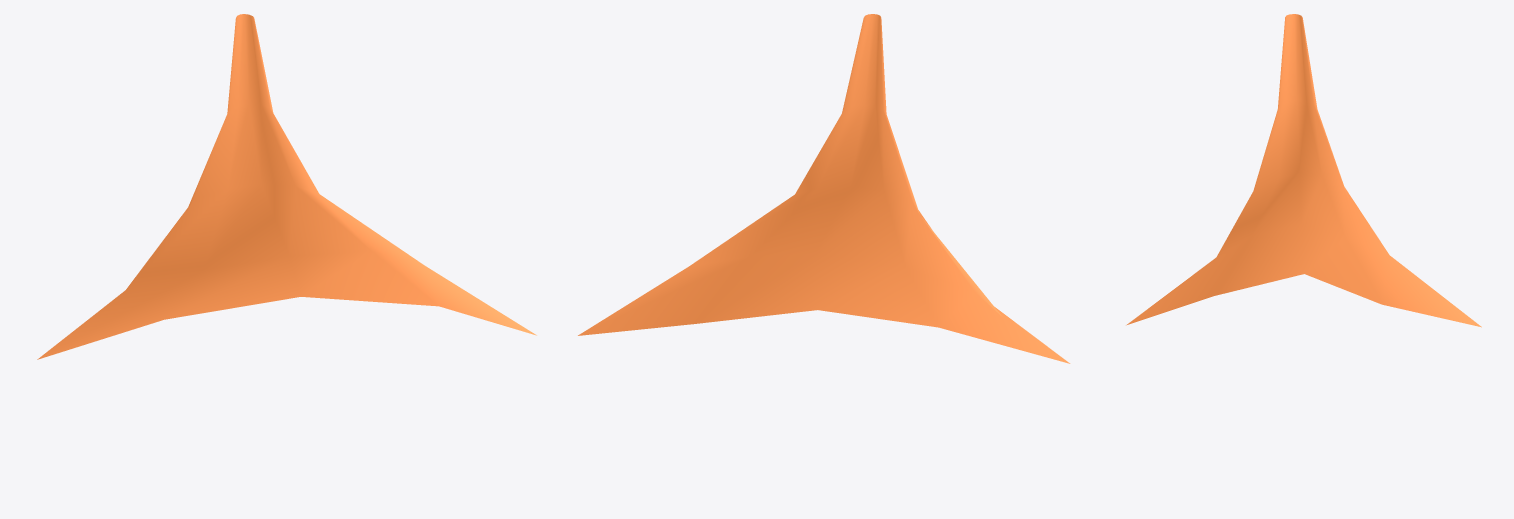
Rendered from prop-volcano-01.glb.
3 renders of one model, left to right at view 1: azimuth 30°, elevation 25°; view 2: azimuth 150°, elevation 25°; view 3: azimuth 270°, elevation 25°, orthographic. The views are drawn at different scales.
Parts seen in each view (by area): view 1: volcano; view 2: volcano; view 3: volcano.
Boxes of the visible parts, x1,y1,x2,y2 form: volcano: (37, 14, 536, 359); volcano: (578, 14, 1070, 363); volcano: (1126, 14, 1481, 327).
Bounding box in the file's own units: 1.39 × 1 × 0.9714.
